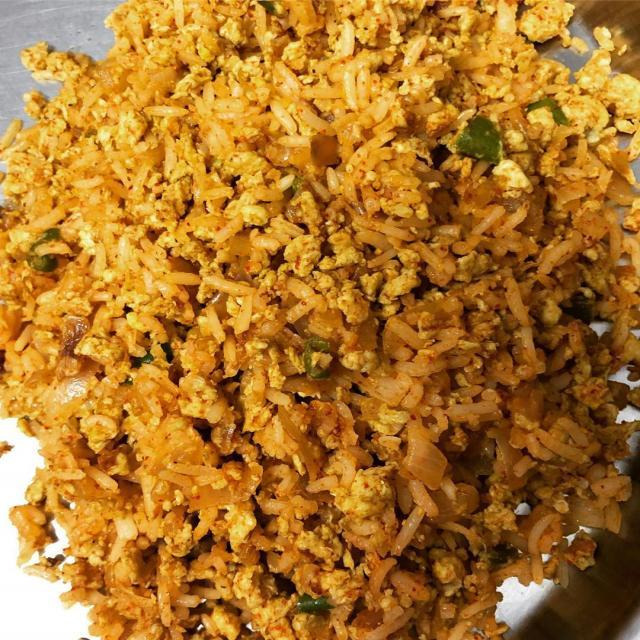biryani: (46, 30, 532, 640)
